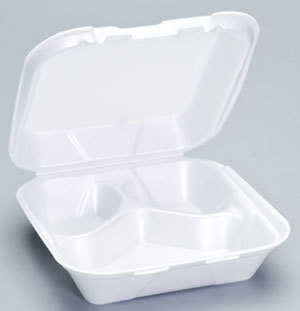Nonrec_Plastic: (2, 5, 283, 298)
